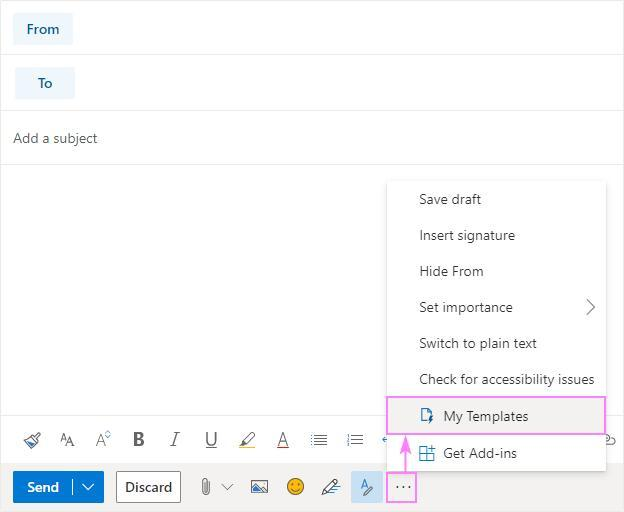button: (116, 470, 183, 505), (16, 68, 76, 100), (15, 14, 74, 46)
dropdown: (12, 470, 105, 506)
icon: (353, 472, 384, 503), (95, 428, 117, 453), (22, 430, 47, 452), (249, 478, 274, 498), (203, 427, 221, 454), (59, 430, 81, 452), (238, 429, 259, 452), (322, 476, 343, 498), (130, 430, 151, 452), (583, 295, 600, 321), (286, 478, 308, 498), (345, 431, 368, 450), (418, 444, 438, 465), (310, 432, 331, 451), (276, 430, 293, 452), (170, 428, 185, 451), (419, 407, 436, 427), (201, 477, 213, 500), (222, 480, 236, 495)
label: (418, 372, 597, 388), (420, 337, 538, 351), (444, 409, 530, 427), (420, 229, 517, 244), (418, 301, 515, 316), (442, 447, 520, 462), (420, 264, 487, 280), (420, 194, 483, 207)
